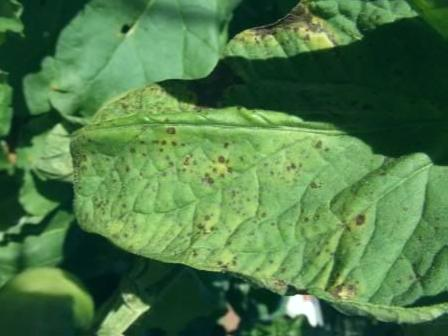Tomato Early blight leaf: (63, 3, 441, 319)
